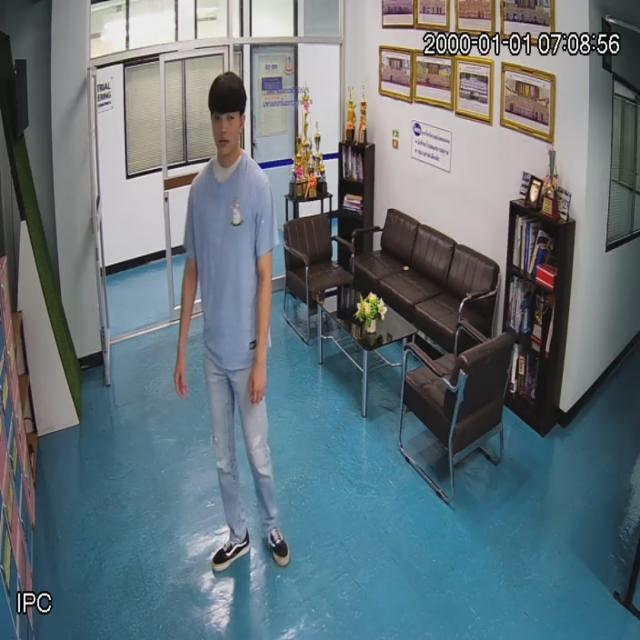normal: (178, 77, 284, 568)
